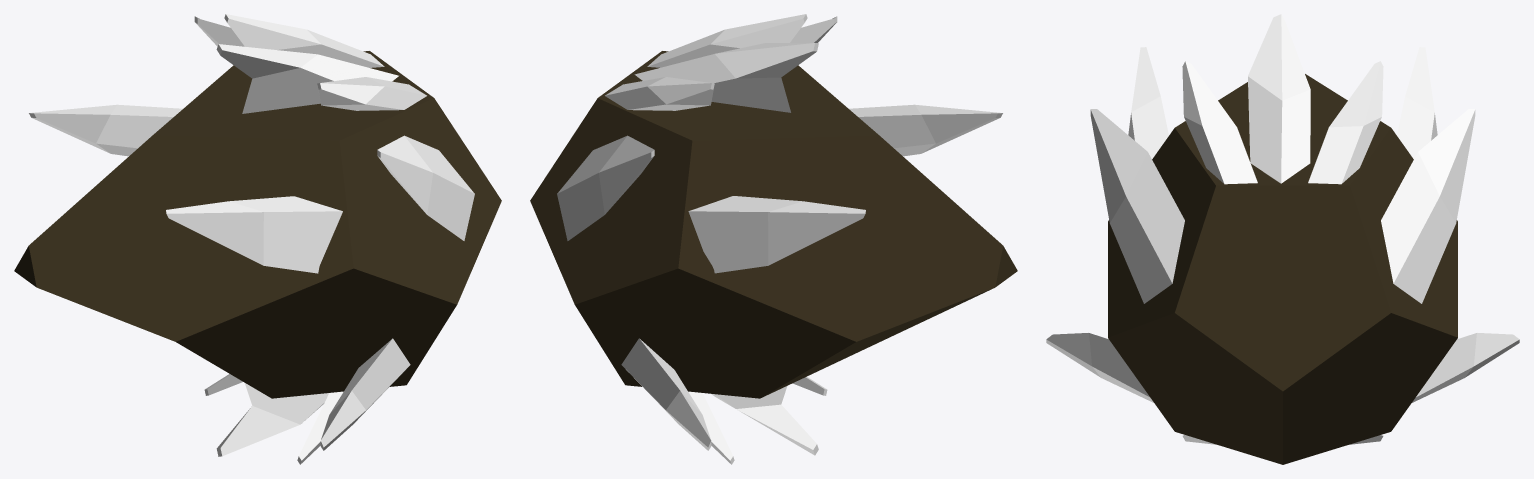
File: meteor5.fbx
3 views of the same model, side by side, from view 1: azimuth 30°, elevation 25°; view 2: azimuth 150°, elevation 25°; view 3: azimuth 270°, elevation 25° (orthographic). The views are drawn at different scales.
Visible parts, largest first — view 1: Meteor.004; view 2: Meteor.004; view 3: Meteor.004.
Boxes of the visible parts, left/top/right/bottom form: Meteor.004: left=14, top=14, right=501, bottom=464; Meteor.004: left=530, top=14, right=1017, bottom=464; Meteor.004: left=1046, top=14, right=1519, bottom=464.
Size of the model in its own units: 217 by 189 by 190.
